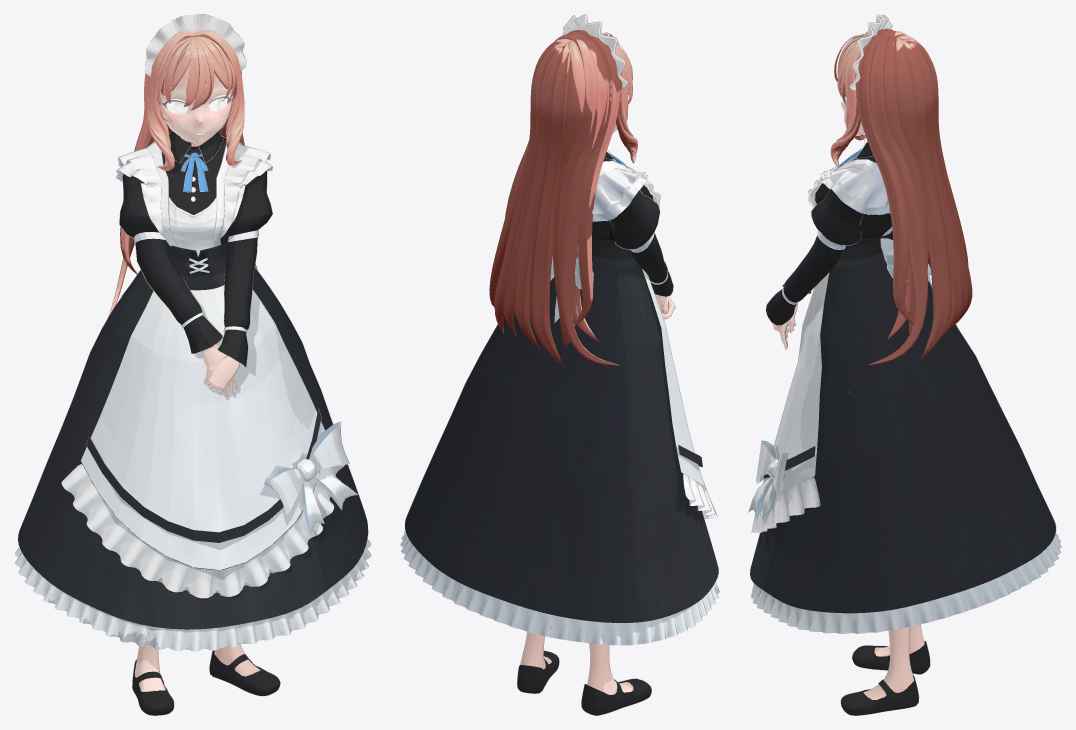
3 views of the same model, side by side, from view 1: azimuth 30°, elevation 25°; view 2: azimuth 150°, elevation 25°; view 3: azimuth 270°, elevation 25° (orthographic). The views are drawn at different scales.
Visible parts, largest first — view 1: Cl, Cl.001, Body, Hair; view 2: Cl, Hair, Cl.001, Body; view 3: Cl, Hair, Cl.001, Body.
Boxes of the visible parts, bbox=[...] form: Cl: bbox=[15, 241, 370, 715]; Cl.001: bbox=[116, 14, 272, 366]; Body: bbox=[14, 14, 371, 715]; Hair: bbox=[107, 29, 258, 318]; Cl: bbox=[400, 239, 719, 715]; Hair: bbox=[489, 30, 637, 366]; Cl.001: bbox=[562, 14, 673, 296]; Body: bbox=[400, 14, 719, 715]; Cl: bbox=[748, 232, 1061, 715]; Hair: bbox=[830, 28, 972, 365]; Cl.001: bbox=[766, 14, 892, 325]; Body: bbox=[748, 14, 1061, 715].
Size of what is drawn, in the model's own units: 0.8745 by 1.91 by 0.8199.
Materials: 9 (4 with a texture image).
